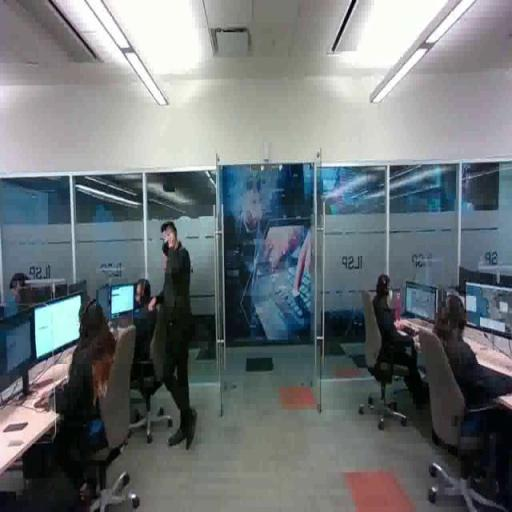person: (36, 294, 117, 509), (427, 291, 512, 456), (148, 216, 199, 454), (364, 272, 431, 413), (120, 284, 172, 407)
